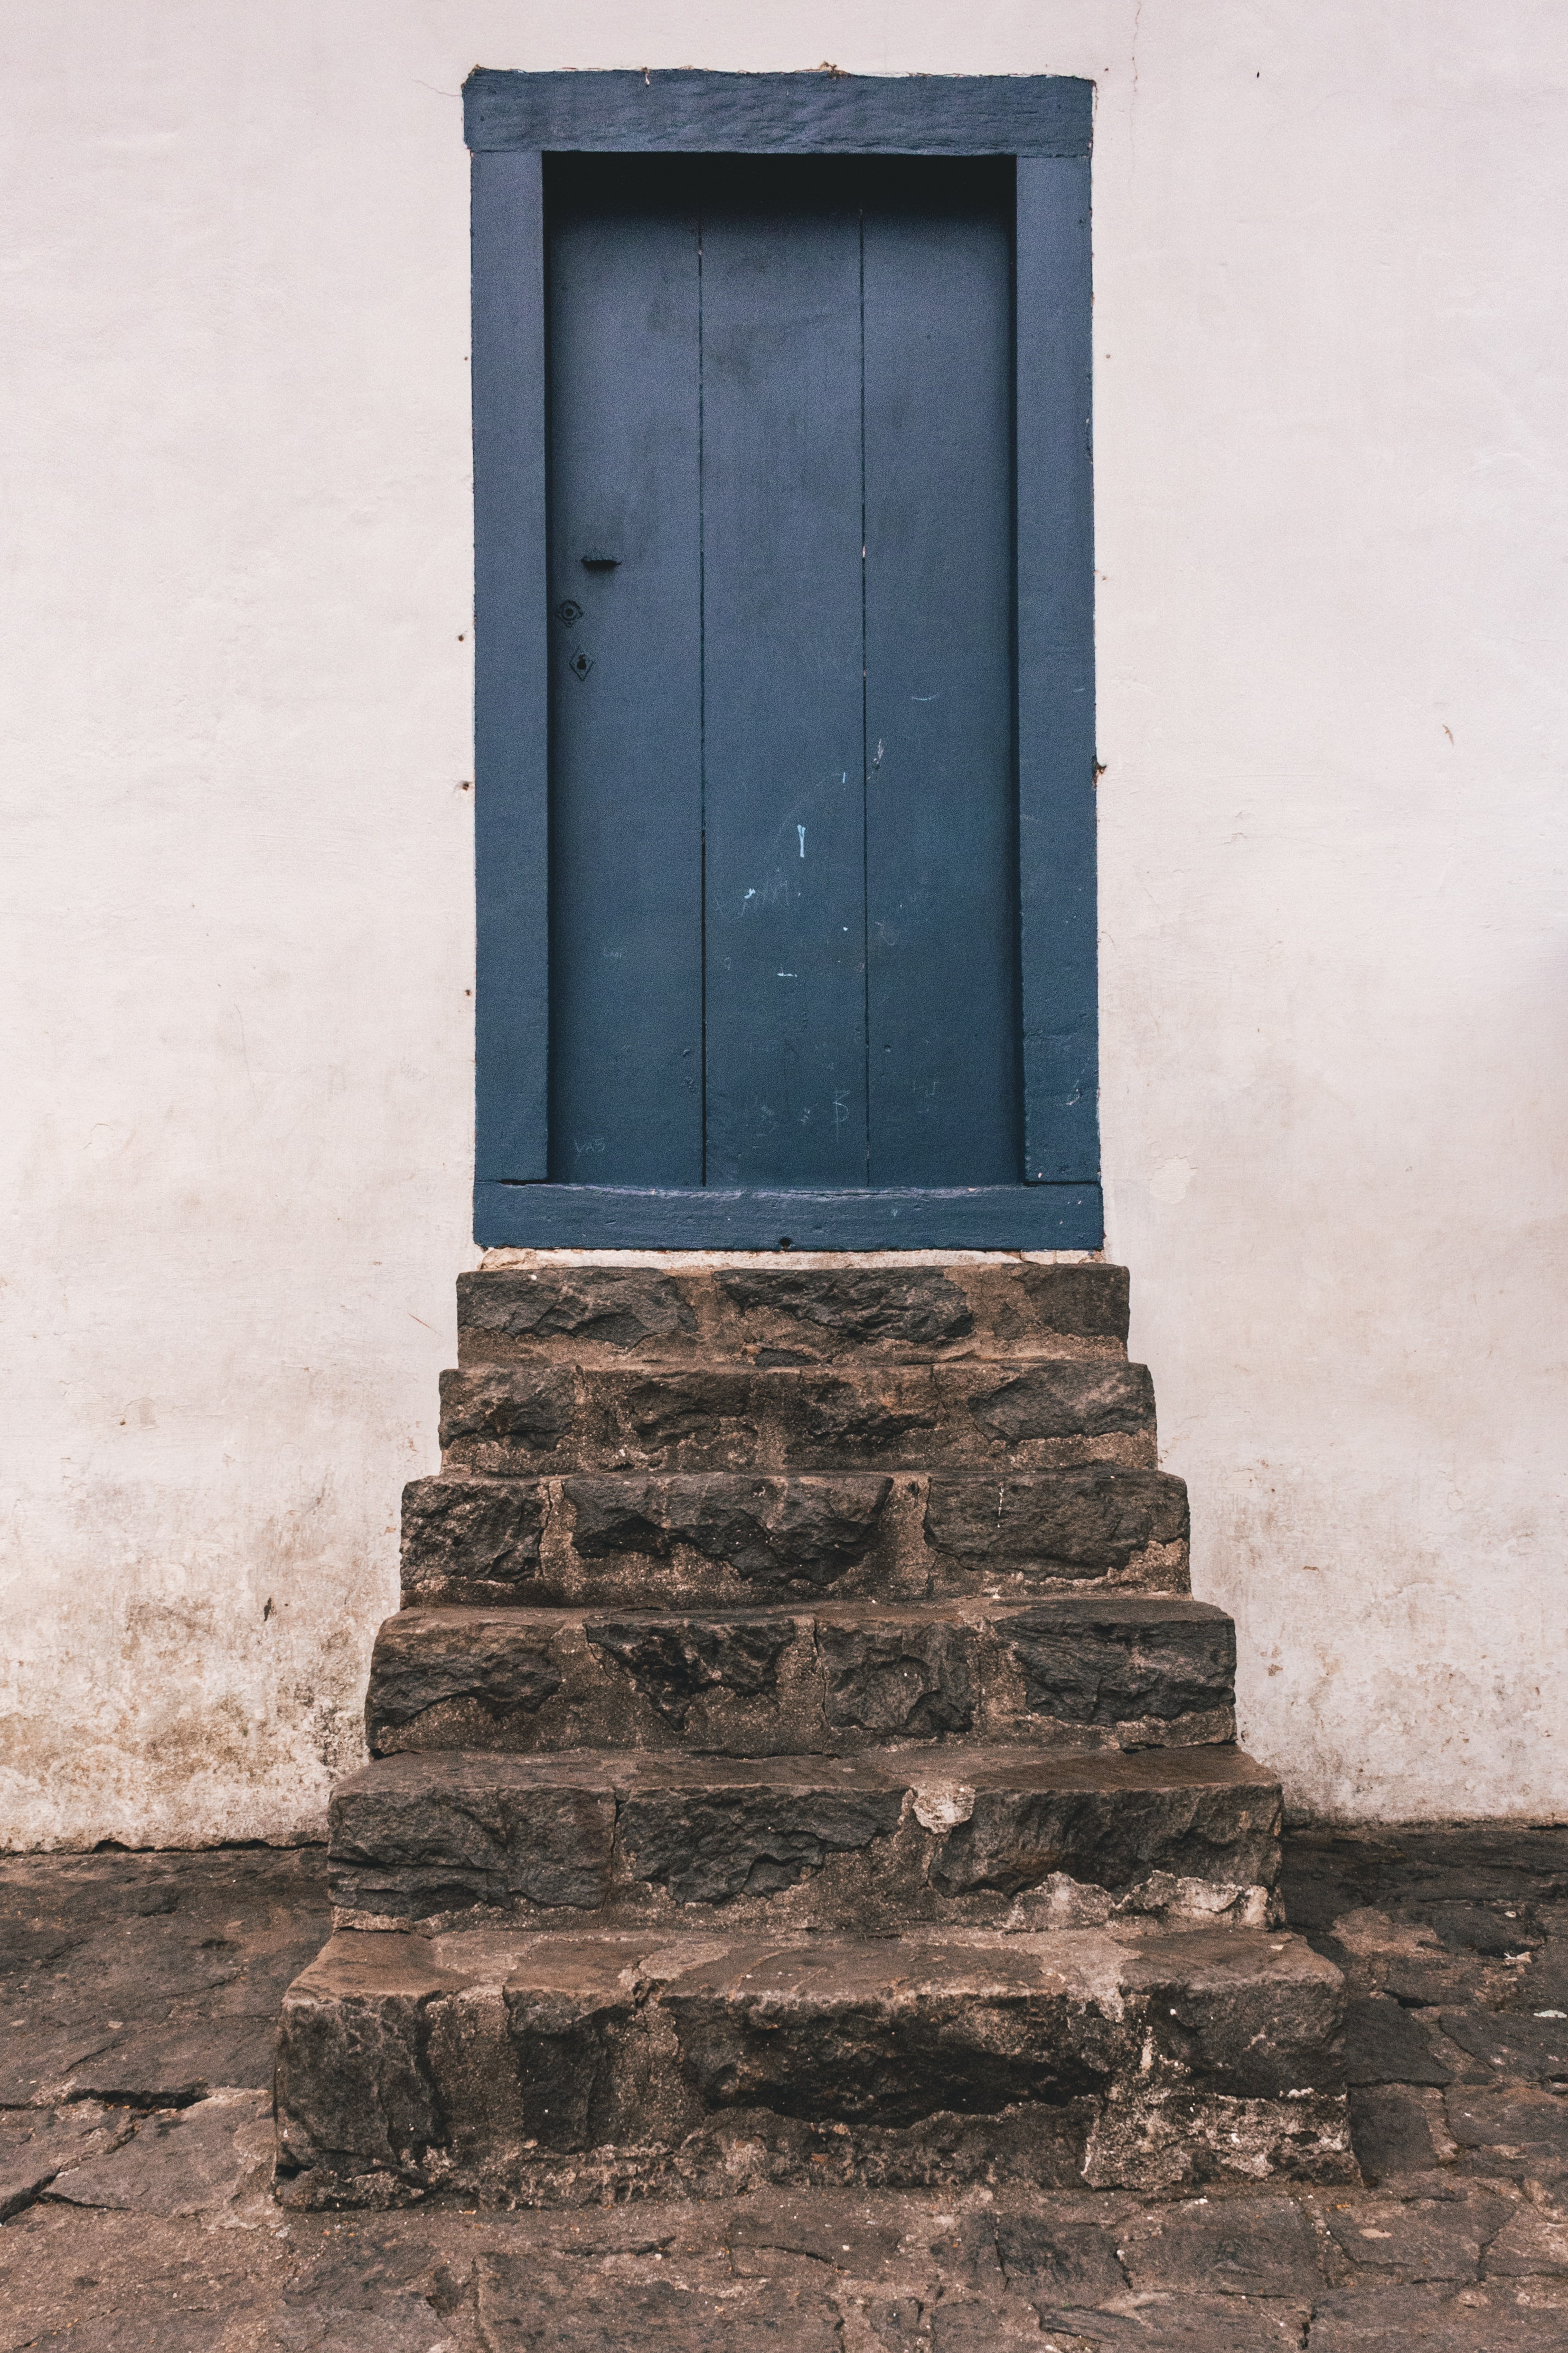upstairs: (390, 1394, 1220, 2237)
